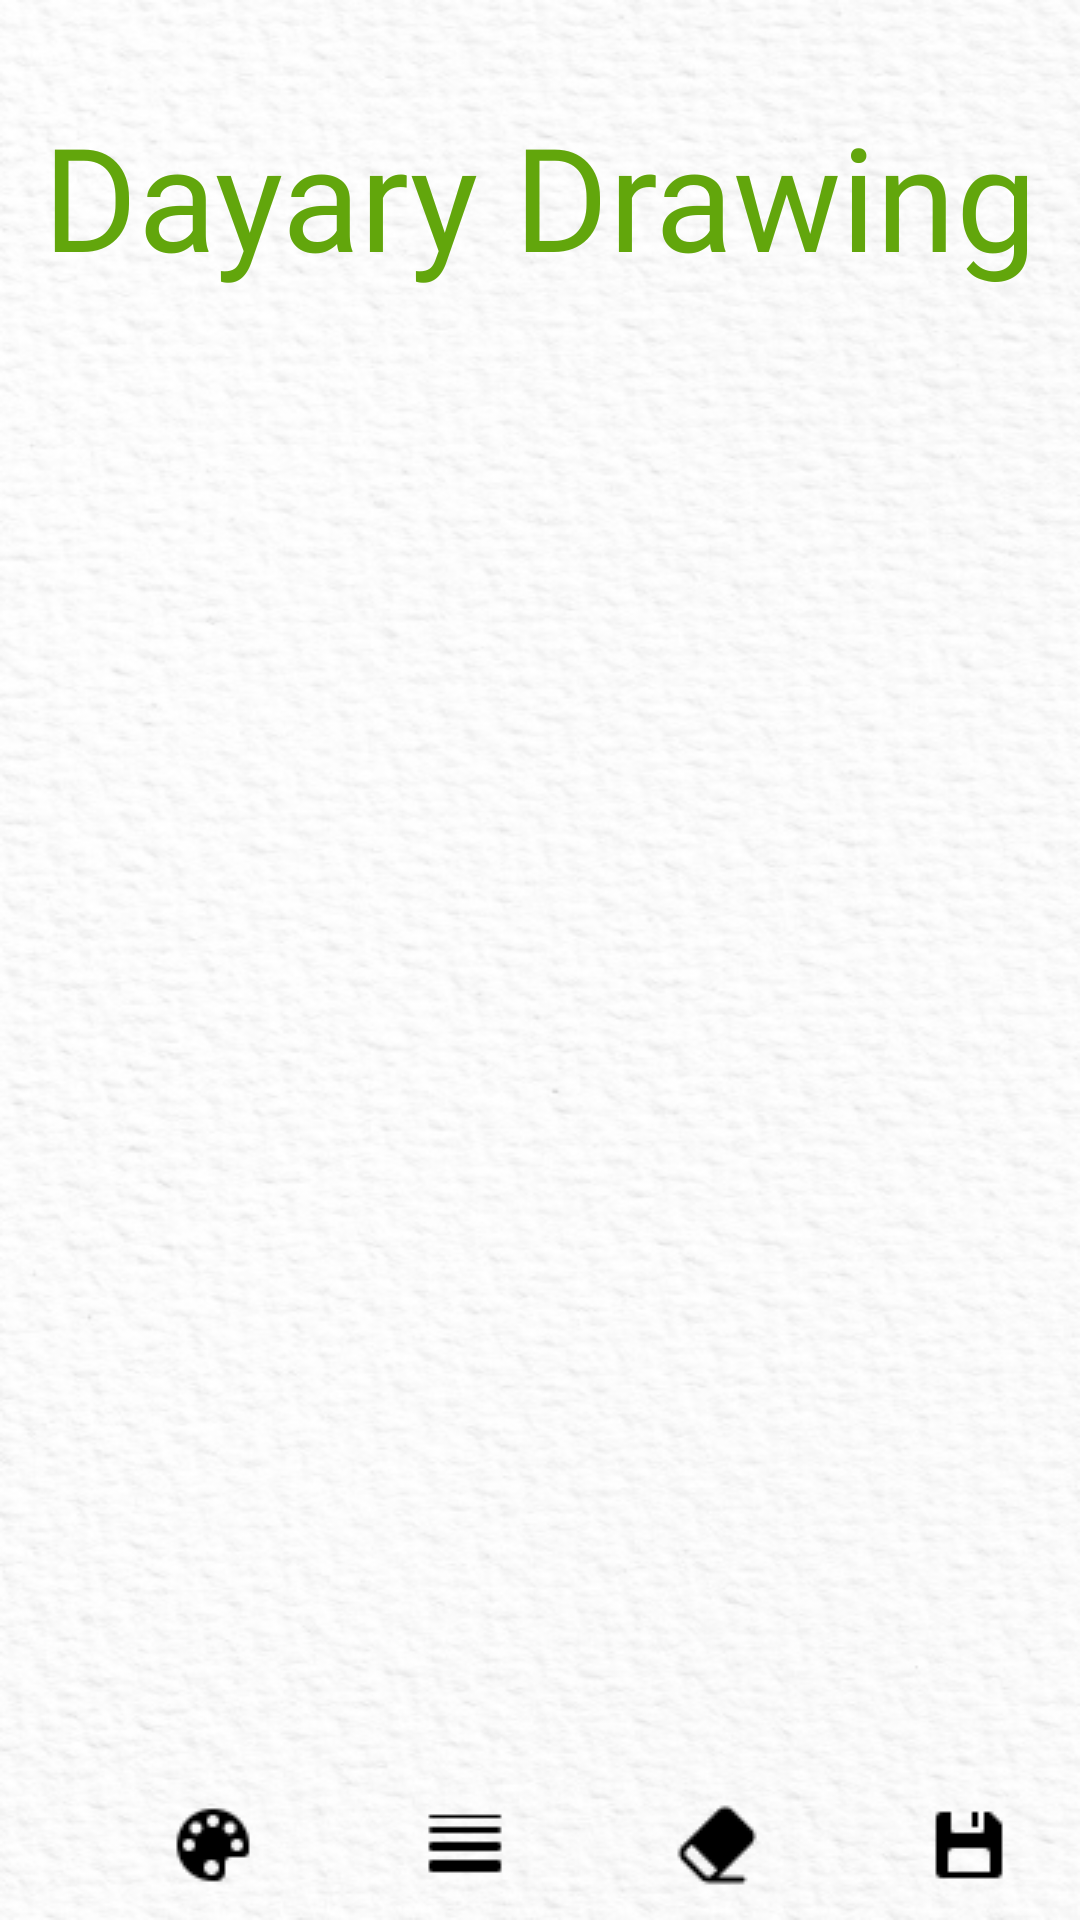

Locate icon controls on the screen. Image size 1080*1920, boxes as (x1, y1, x2, y2).
eraser: (677, 1805, 757, 1885)
lines: (428, 1814, 502, 1873)
palette: (176, 1808, 250, 1882)
save: (935, 1811, 1003, 1879)
